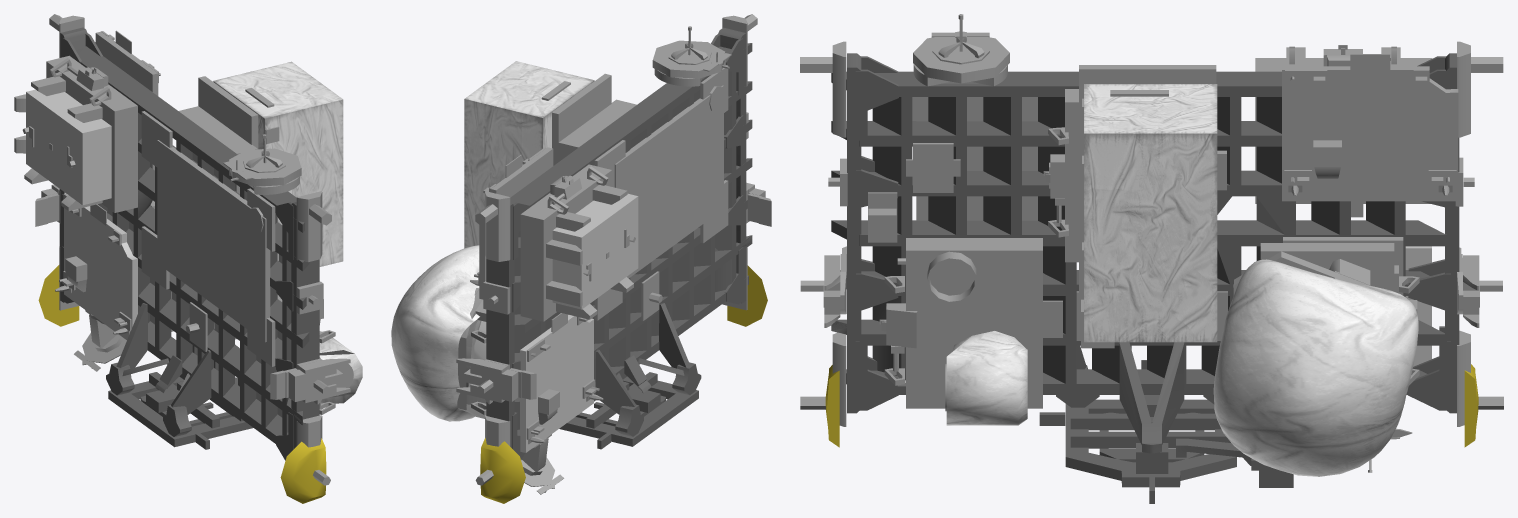
Rendered from ESP3.FBX.
The picture shows the model from 3 angles, left to right: view 1: azimuth 30°, elevation 25°; view 2: azimuth 150°, elevation 25°; view 3: azimuth 270°, elevation 25°; orthographic projection. The views are drawn at different scales.
Parts seen in each view (by area): view 1: esp3; view 2: esp3; view 3: esp3.
Part boxes in pixels (x1,y1,x2,y2): esp3: (14,14,362,503); esp3: (391,14,771,503); esp3: (800,14,1503,503).
Bounding box in the file's own units: 2.35 × 3.49 × 4.97.
Materials: 5 (1 with a texture image).
